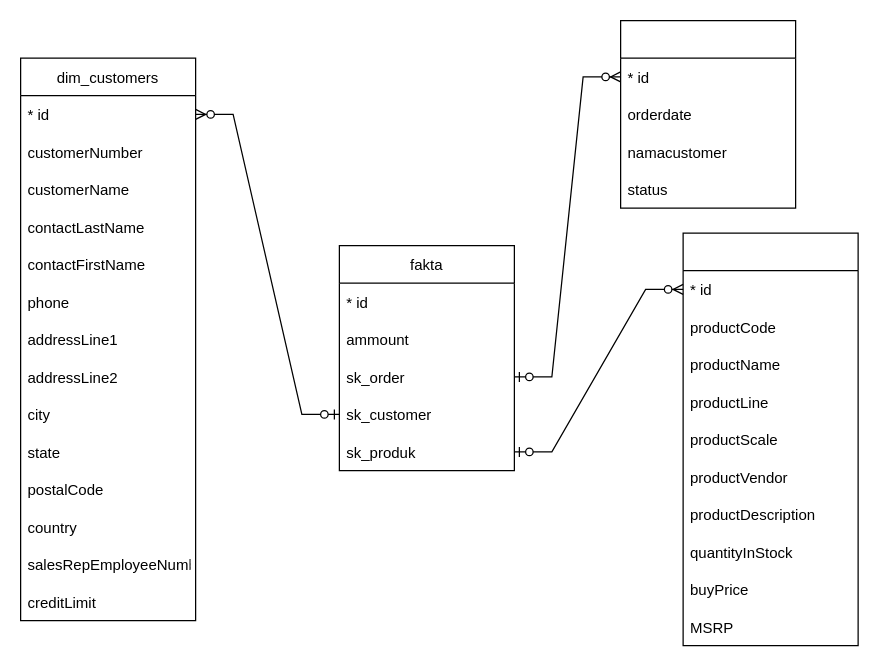
Some shapes in this 879 by 666 pixel diagram are drawn without their labels. Here are the shapes that lost their labels. From the top down, the box of each, then its label:
(619, 19, 796, 208): dim_order
(682, 232, 858, 646): dim_products
